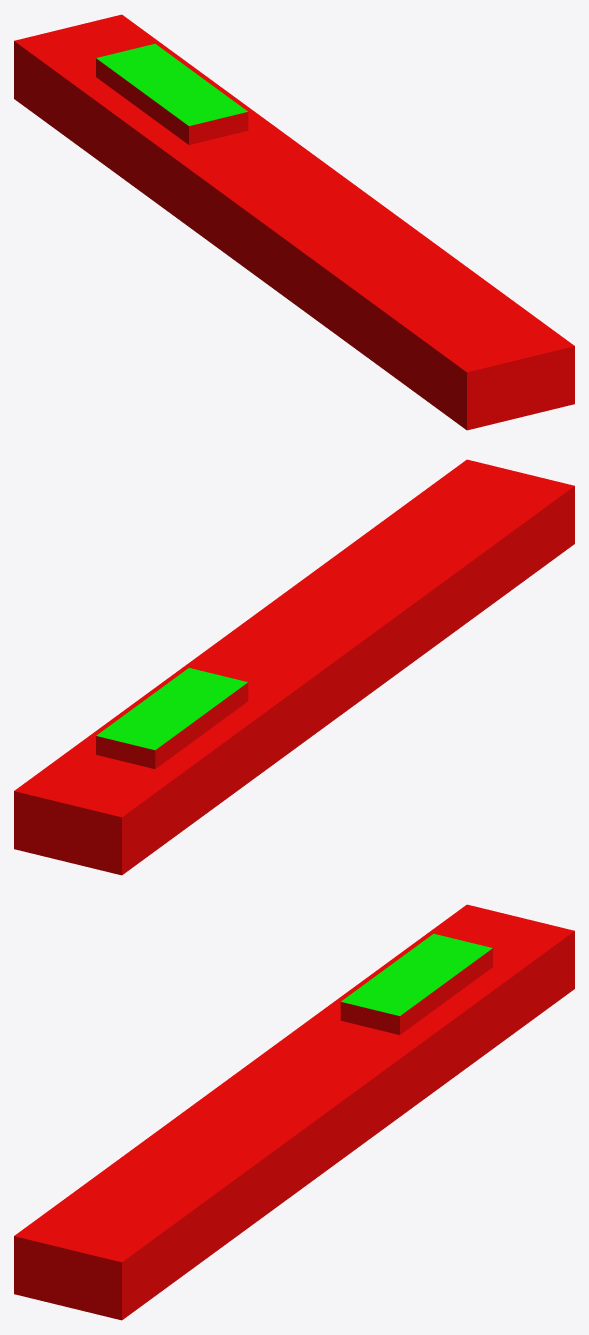
File: labeled.obj
The picture shows the model from 3 angles, top to bottom: view 1: azimuth 30°, elevation 25°; view 2: azimuth 150°, elevation 25°; view 3: azimuth 330°, elevation 25°; orthographic projection.
Size of the model in its own units: 0.0193 by 0.0132 by 0.1403.
